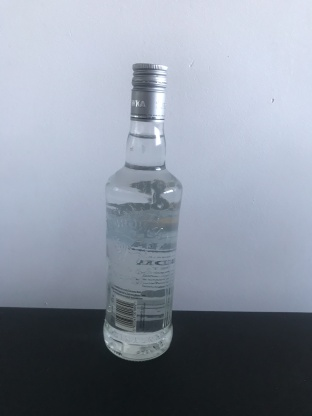nakretka: (129, 59, 168, 124)
